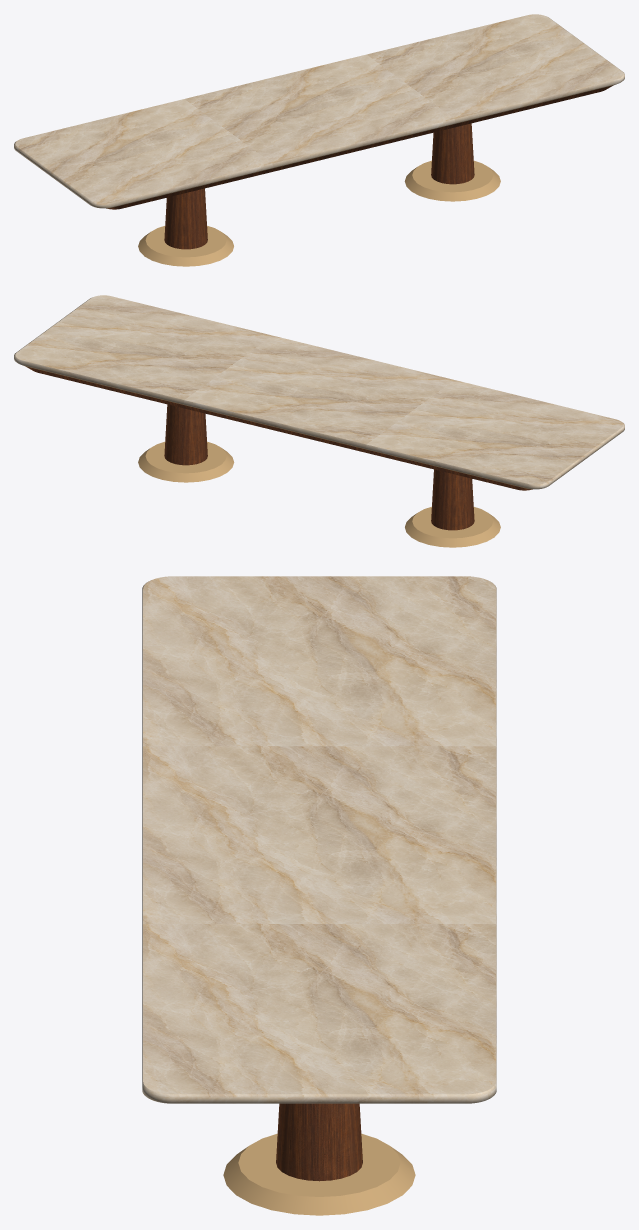
File: SaloonRectangularTableFor12.glb
3 views of the same model, one above another, from view 1: azimuth 30°, elevation 25°; view 2: azimuth 150°, elevation 25°; view 3: azimuth 270°, elevation 25° (orthographic). The views are drawn at different scales.
Parts seen in each view (by area): view 1: Champagne edge.004; view 2: Champagne edge.004; view 3: Champagne edge.004.
Boxes of the visible parts, left/top/right/bottom form: Champagne edge.004: left=14, top=14, right=624, bottom=266; Champagne edge.004: left=14, top=295, right=624, bottom=547; Champagne edge.004: left=142, top=576, right=496, bottom=1215.
Bounding box in the file's own units: 4.1 × 0.77 × 1.18.
Materials: 3 (2 with a texture image).
